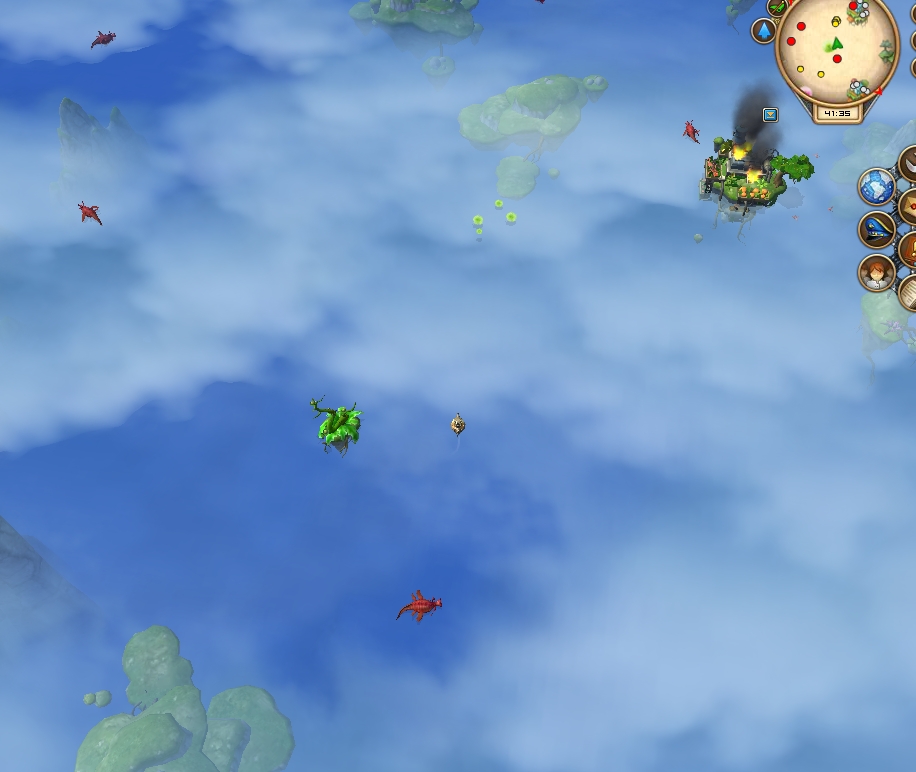dandelion-empty: (304, 391, 366, 457)
fluff: (468, 213, 485, 229), (505, 210, 519, 229), (493, 196, 505, 211), (474, 230, 485, 244)
